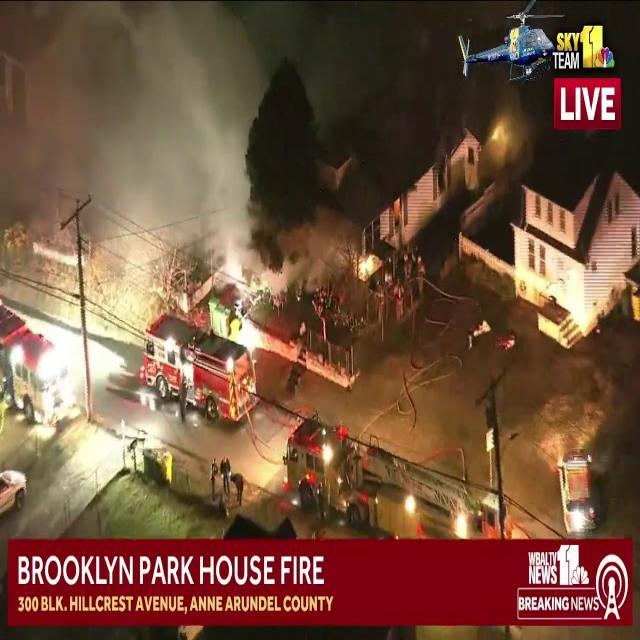Smoke: (0, 0, 264, 288)
